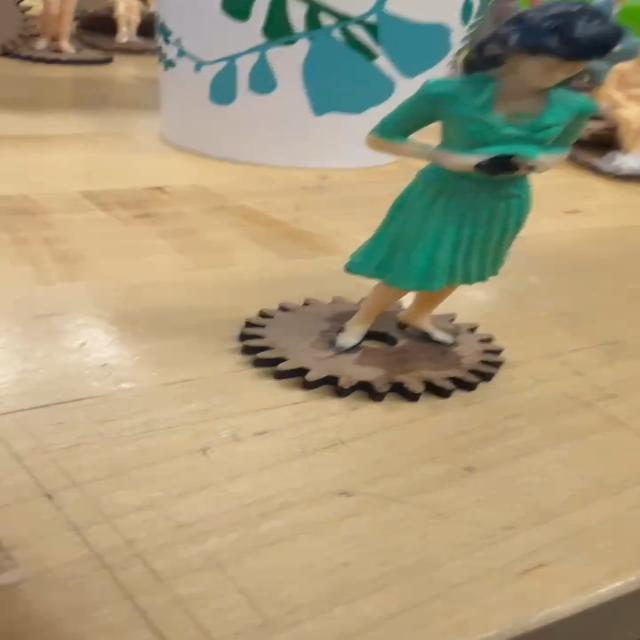Authorized: (329, 6, 628, 381)
